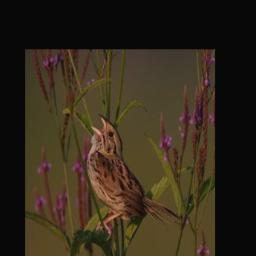Sparrow: (86, 112, 186, 244)
